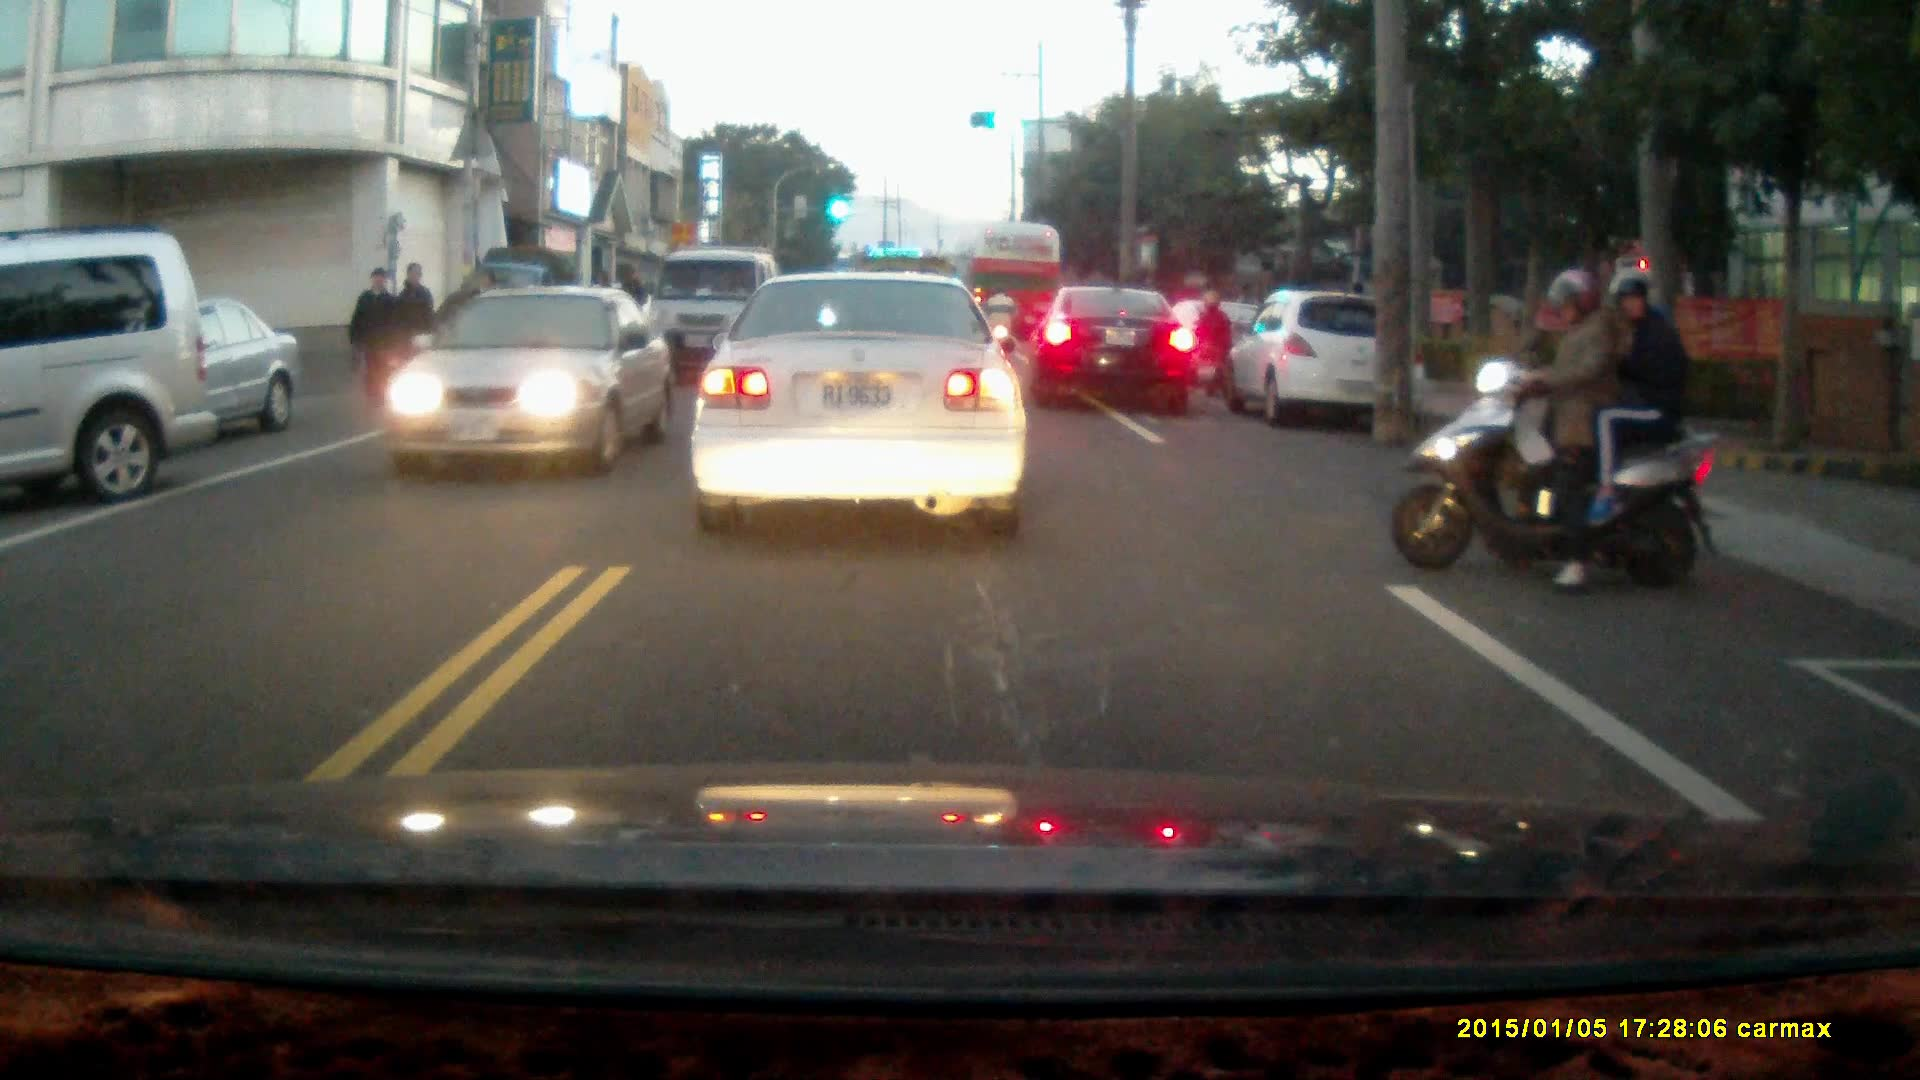pedestrian: (344, 262, 401, 417), (390, 262, 434, 395), (616, 268, 645, 352)
rider: (1391, 265, 1723, 596), (1188, 290, 1235, 399), (980, 285, 1019, 362)
vehicle: (690, 266, 1030, 539), (1, 222, 216, 505), (385, 285, 677, 480), (27, 291, 304, 441), (1235, 290, 1430, 434), (1028, 290, 1203, 417), (652, 247, 781, 383), (963, 222, 1068, 357)
